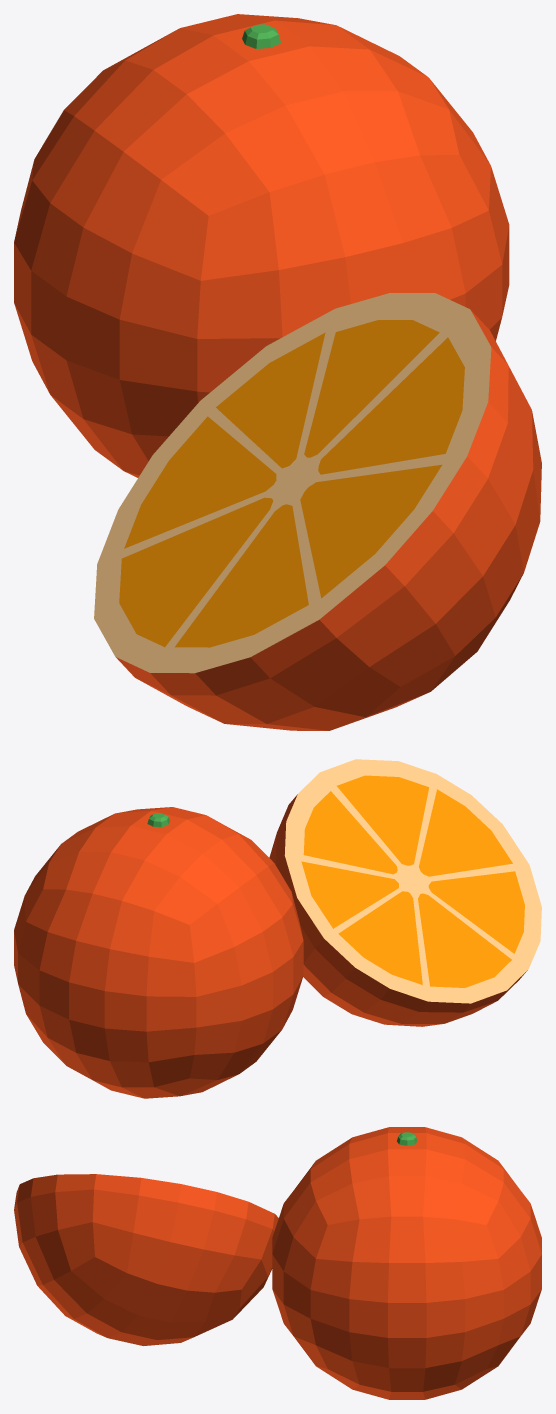
File: Orange.glb
3 renders of one model, top to bottom at view 1: azimuth 30°, elevation 25°; view 2: azimuth 150°, elevation 25°; view 3: azimuth 270°, elevation 25°, orthographic. The views are drawn at different scales.
Visible parts, largest first — view 1: orange_Roundcube.002; view 2: orange_Roundcube.002; view 3: orange_Roundcube.002.
Boxes of the visible parts, x1,y1,x2,y2 form: orange_Roundcube.002: [14, 14, 541, 730]; orange_Roundcube.002: [14, 759, 541, 1098]; orange_Roundcube.002: [14, 1127, 541, 1399].
Bounding box in the file's own units: 6.93 × 5.19 × 9.87.
